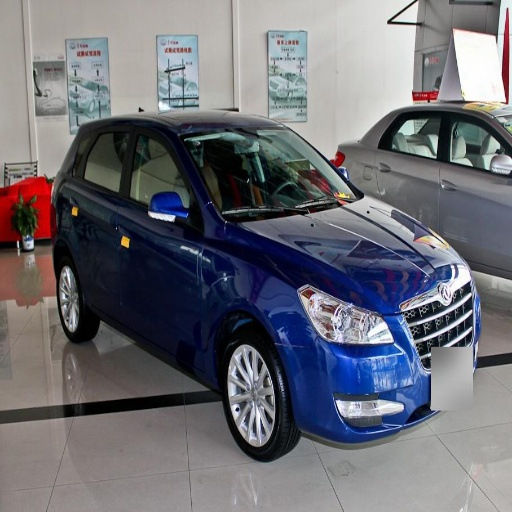front_bumper: (280, 283, 471, 450)
front_right_door: (117, 125, 205, 347)
front_right_light: (299, 285, 391, 345)
